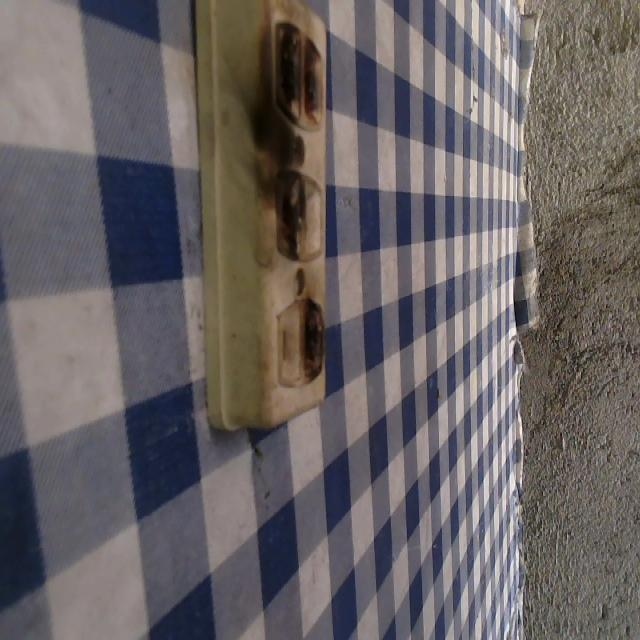-: (260, 18, 332, 130), (260, 162, 306, 266), (298, 291, 328, 381)
